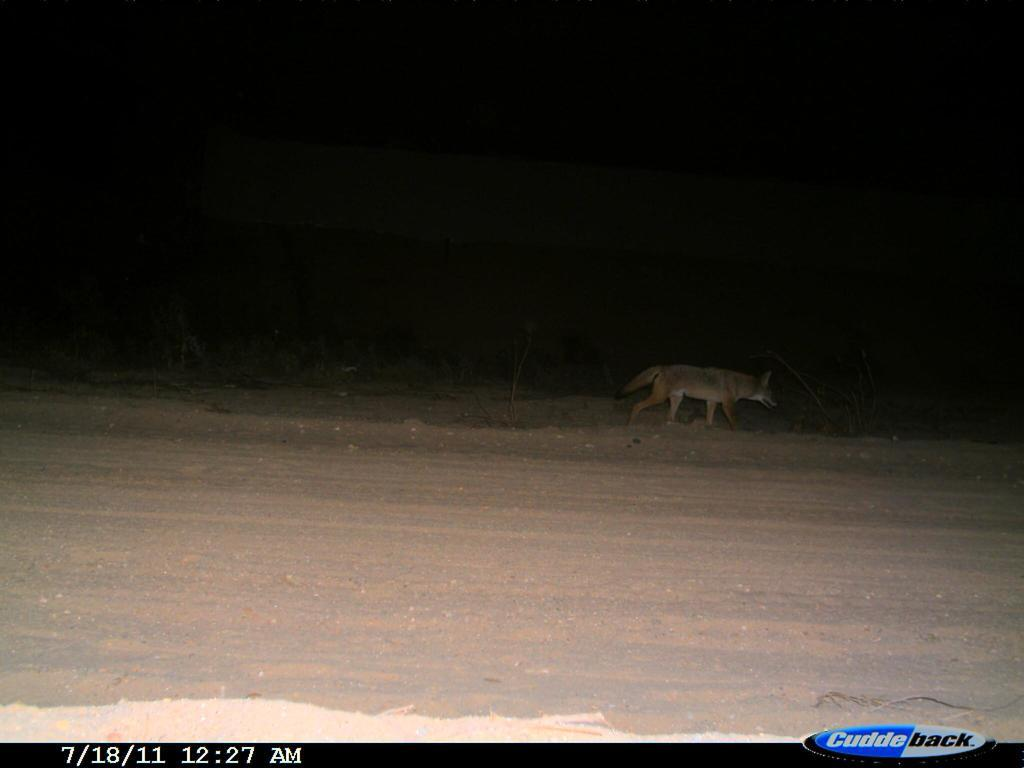coyote: (602, 342, 792, 452)
